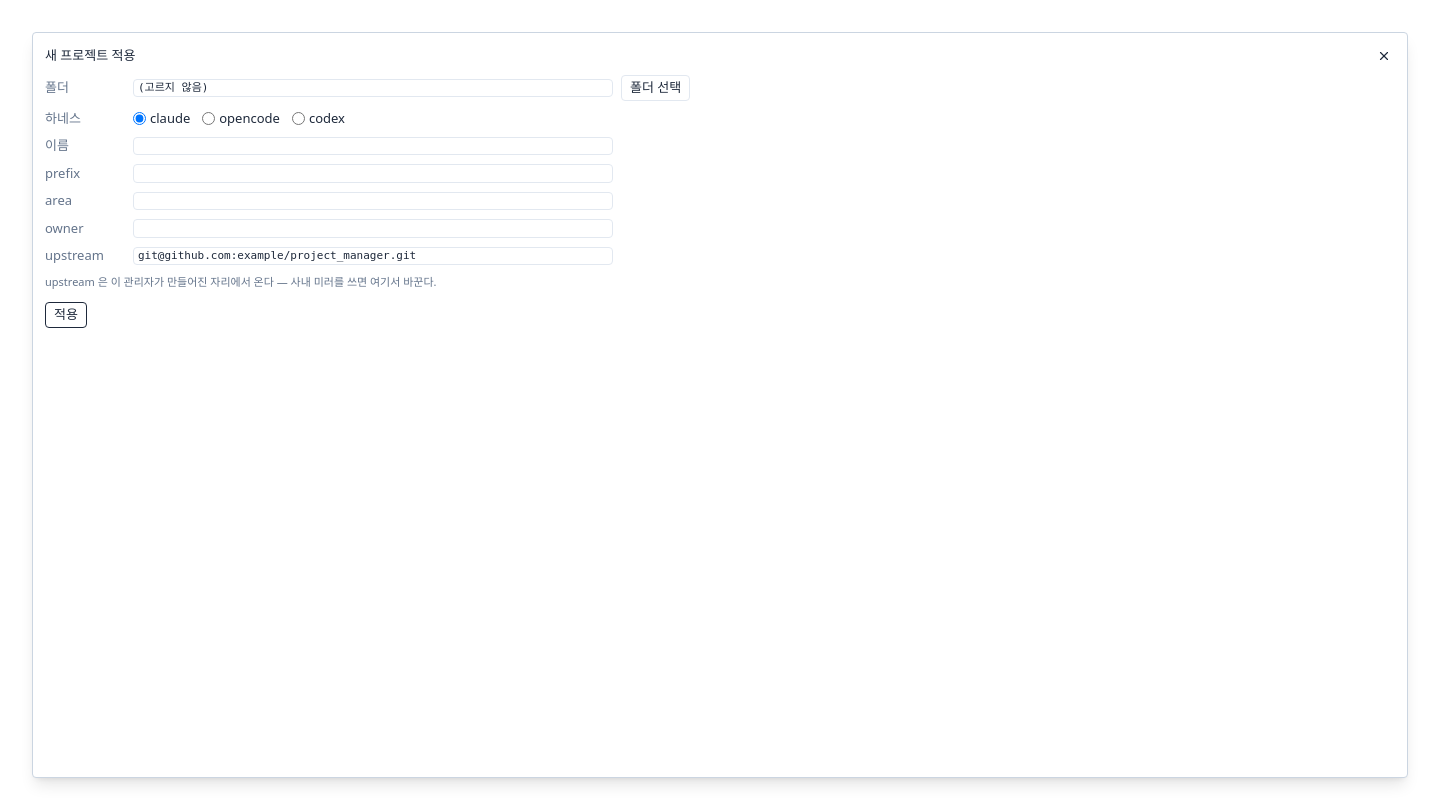
Test: 대화의 기본값 › 폴더를 고르면 이름 칸이 폴더명으로 찬다
The image size is (1440, 810).
Expected: the field named "upstream" is shown, [133,246,613,265]
Click the button "폴더 선택". click: (656, 88)
box: [621,75,690,100]
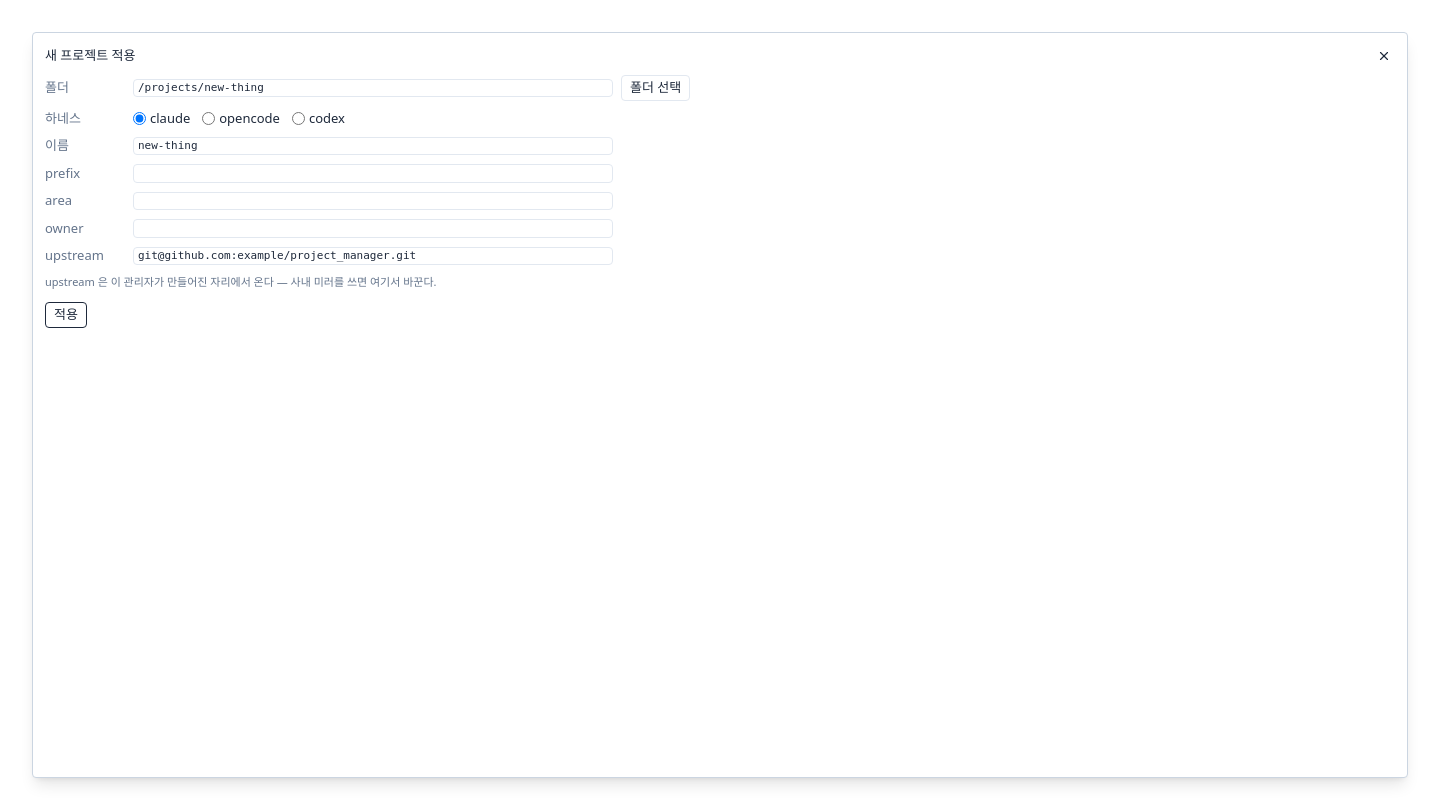
Expected: the text "/projects/new-thing" is shown, [133,78,613,97]
Expected: the field named "이름" holds "new-thing", [133,136,613,155]
